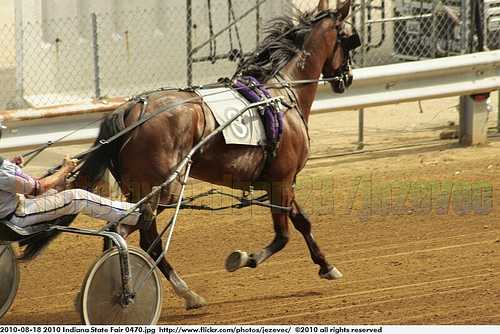horse: (18, 1, 359, 311)
